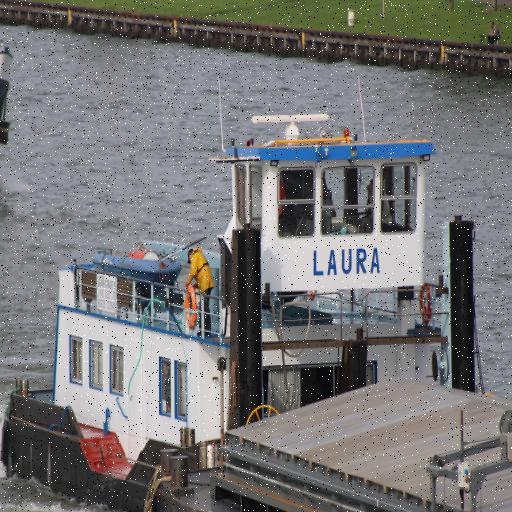tugboat: (1, 107, 482, 512)
